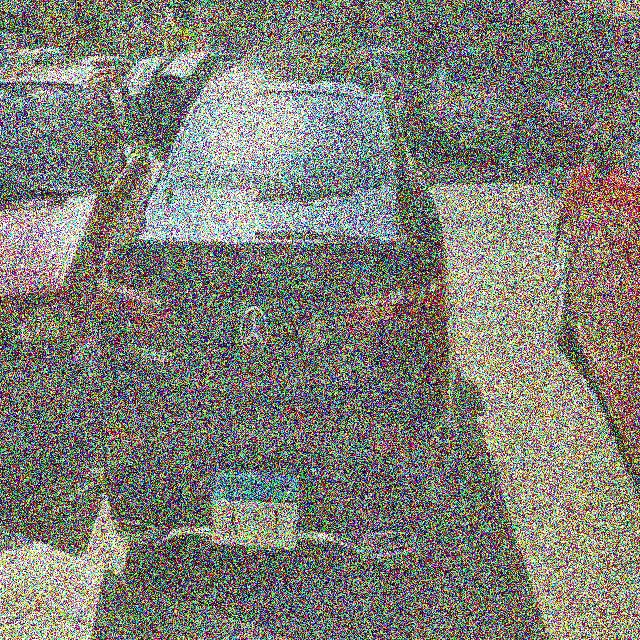License Plate: (209, 463, 301, 554)
